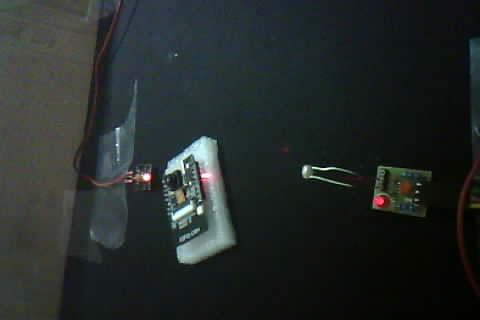esp32: (155, 154, 227, 254)
